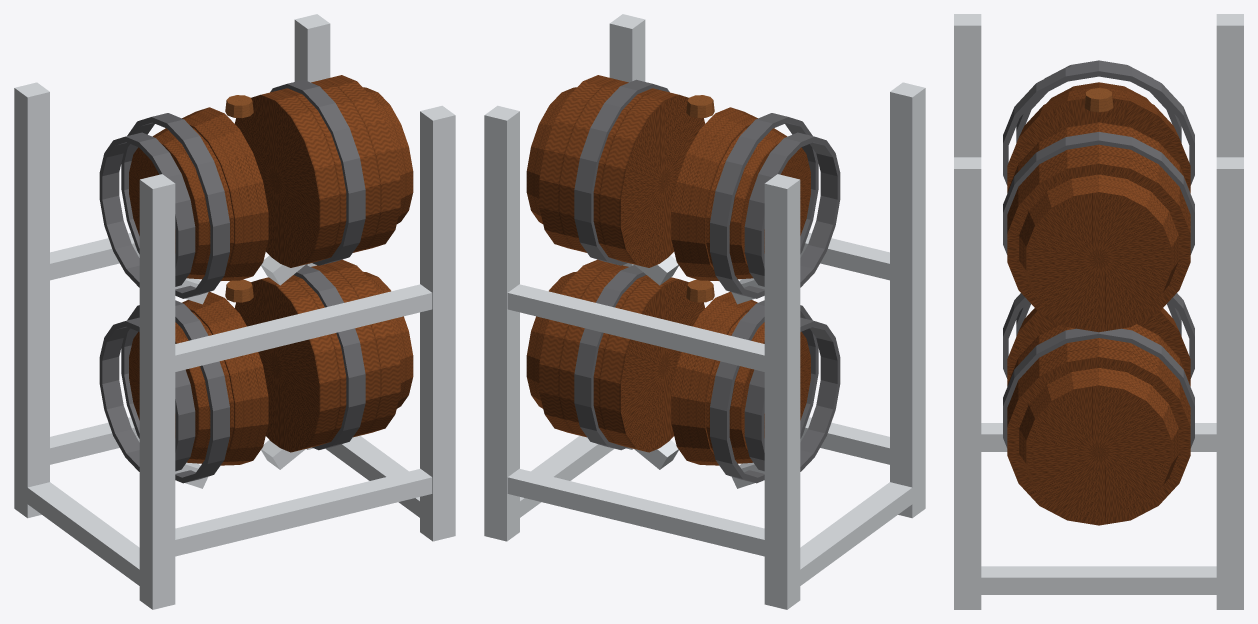
Rendered from barrel-rack-low.glb.
The picture shows the model from 3 angles, left to right: view 1: azimuth 30°, elevation 25°; view 2: azimuth 150°, elevation 25°; view 3: azimuth 270°, elevation 25°; orthographic projection. The views are drawn at different scales.
Parts seen in each view (by area): view 1: barrel-rack-low-steel, barrel-rack-low-oak, barrel-rack-low-dark, barrel-rack-low-timber; view 2: barrel-rack-low-steel, barrel-rack-low-oak, barrel-rack-low-dark, barrel-rack-low-timber; view 3: barrel-rack-low-oak, barrel-rack-low-steel, barrel-rack-low-dark, barrel-rack-low-timber.
Boxes of the visible parts, x1,y1,x2,y2 form: barrel-rack-low-steel: [14, 14, 455, 609]; barrel-rack-low-oak: [129, 75, 413, 465]; barrel-rack-low-dark: [99, 79, 365, 483]; barrel-rack-low-timber: [225, 95, 253, 302]; barrel-rack-low-steel: [484, 14, 925, 609]; barrel-rack-low-oak: [526, 75, 810, 465]; barrel-rack-low-dark: [574, 79, 840, 483]; barrel-rack-low-timber: [686, 95, 714, 302]; barrel-rack-low-oak: [1007, 82, 1190, 525]; barrel-rack-low-steel: [954, 14, 1243, 609]; barrel-rack-low-dark: [1003, 60, 1194, 447]; barrel-rack-low-timber: [1084, 88, 1113, 112].
Bounding box in the file's own units: 1.34 × 1.78 × 1.06.
4 materials, 2 textured.
